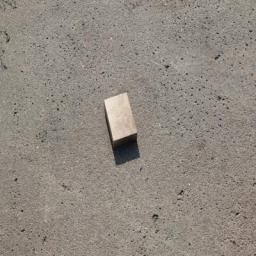FOD: (101, 92, 146, 167)
